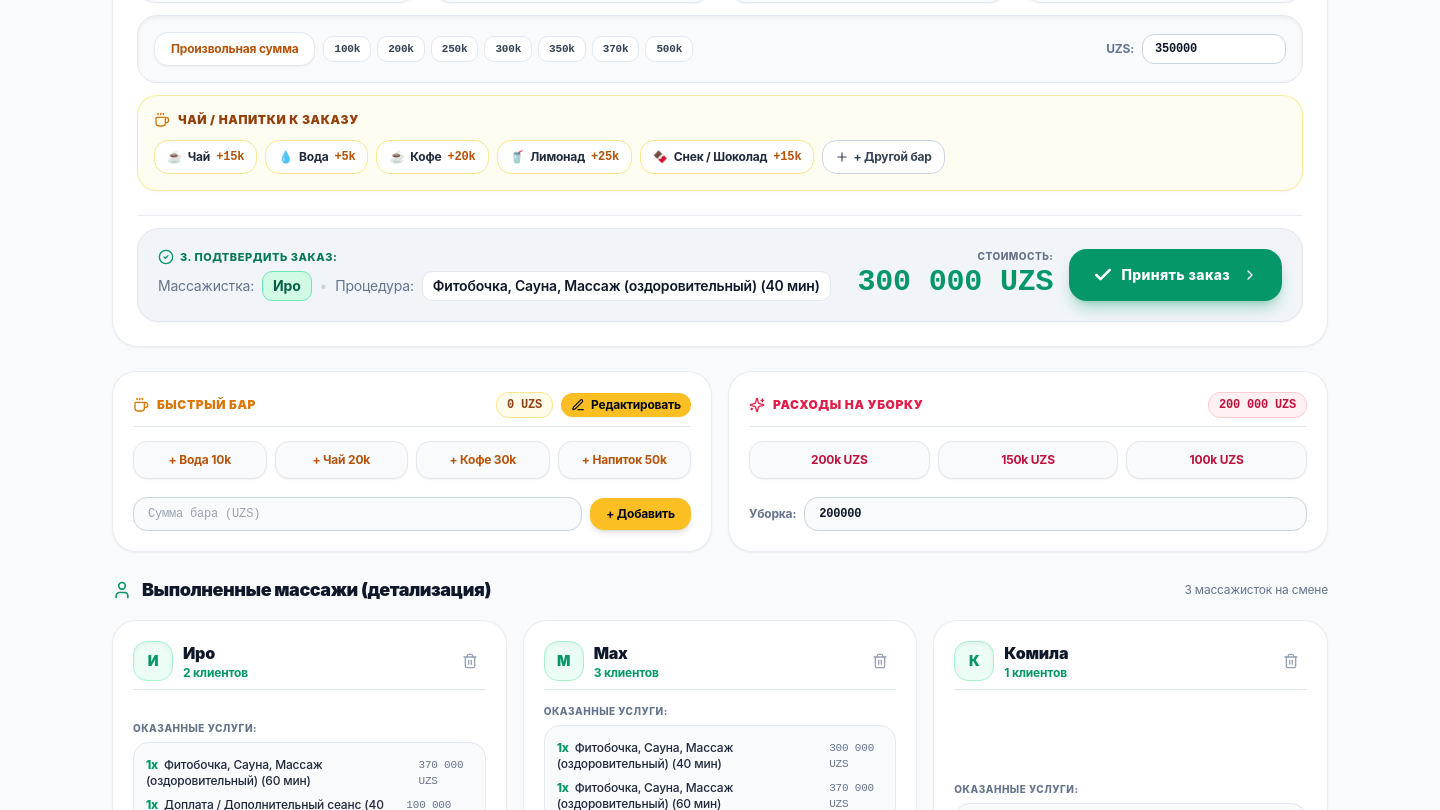
Feature F16: iOS Design System, Delete Massajistka, and Bar Editor › 3. Bar Editing & Modification Feature › opens Bar Editor Modal when clicking edit button in Quick Bar card
The width and height of the screenshot is (1440, 810).
(page scrolled)
Click the button with test id "open-bar-editor-btn": (626, 405) [561,393,691,417]
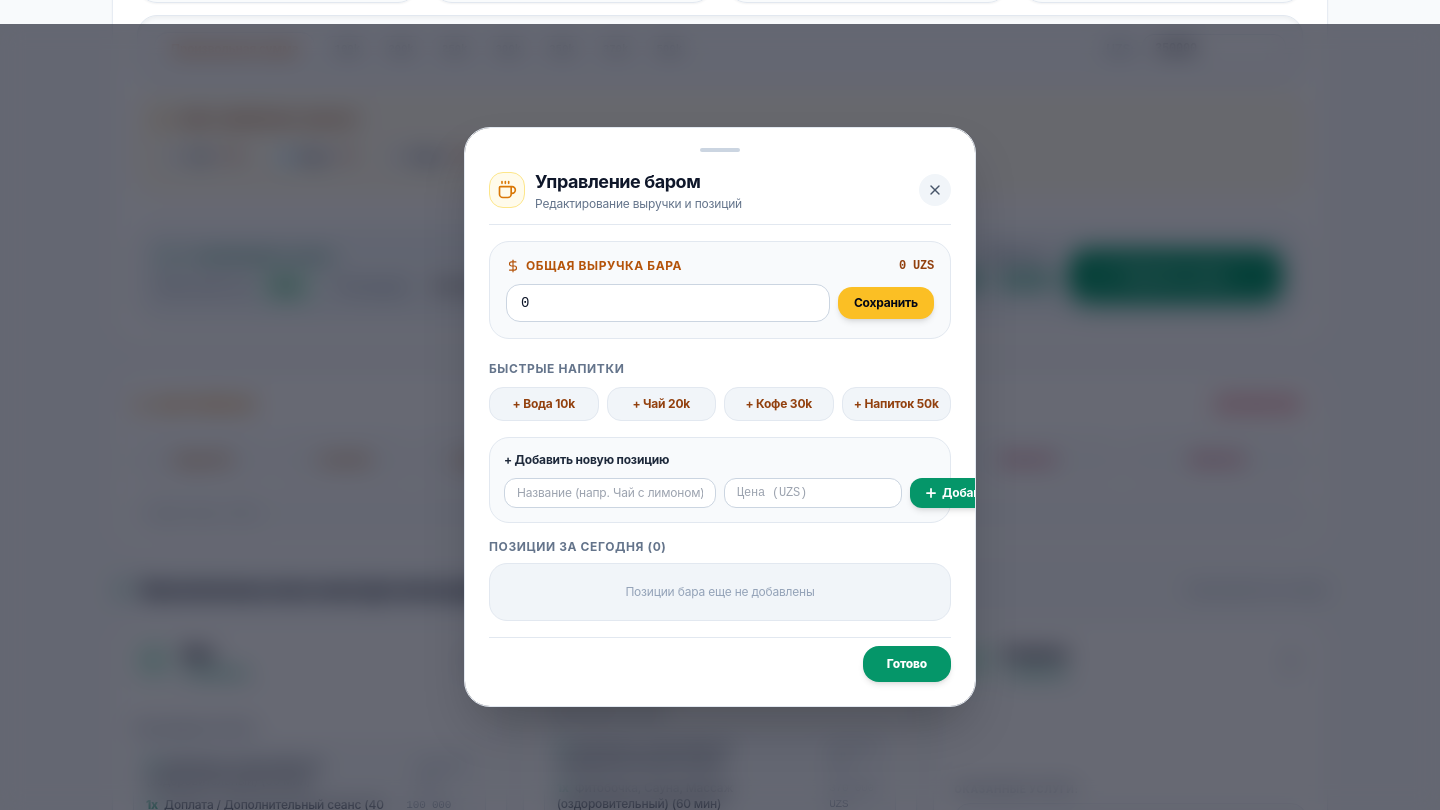
Expected: the dialog with test id "bar-editor-modal" is shown
Expected: the heading "Управление баром" is shown, [535,171,700,192]
